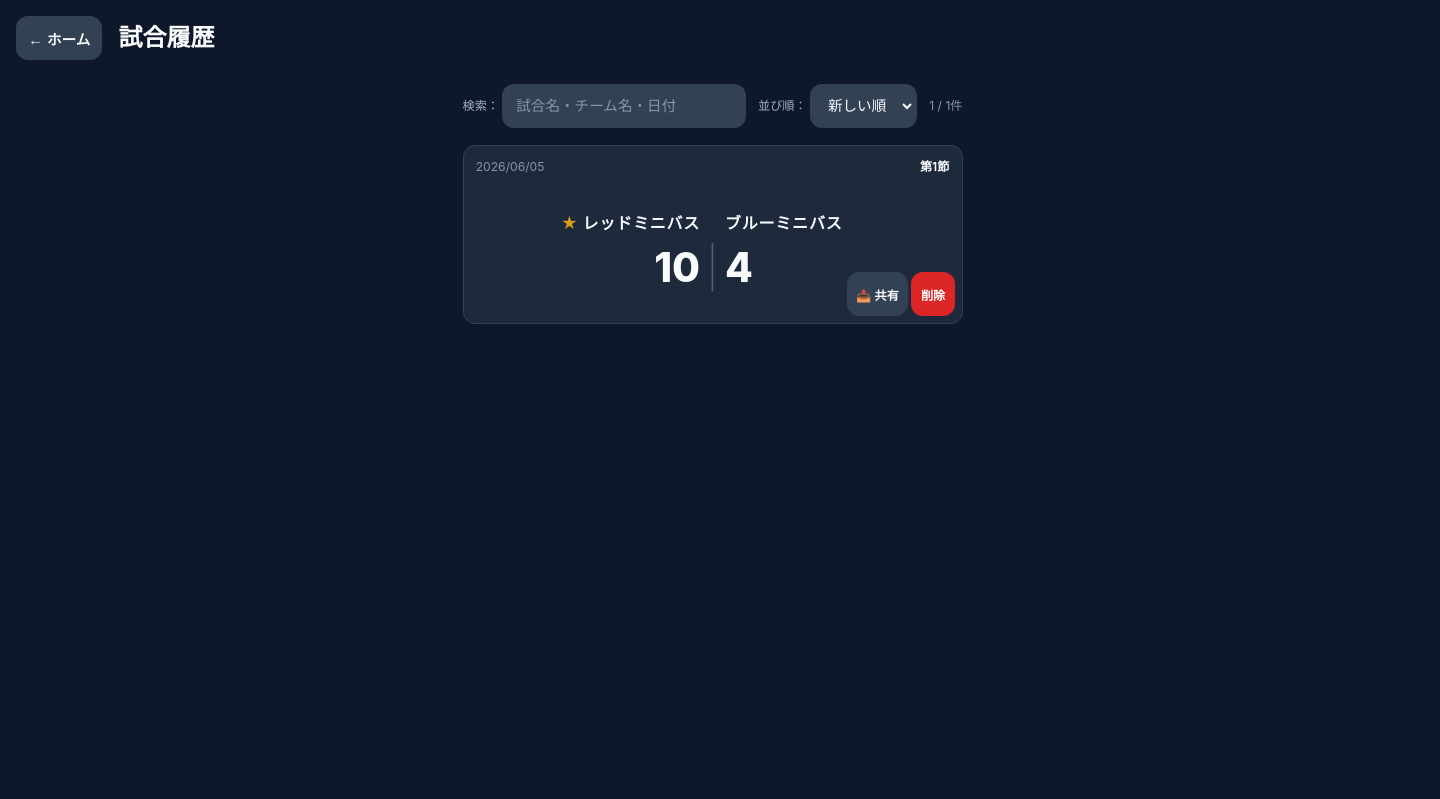
Scenario: 履歴詳細のタブ › スタッツに切り替えると選手別の表が出る
The image size is (1440, 799).
Click the button "2026/06/05 第1節 ★ レッドミニバス 10 | ブルーミニバス 4".
click(510, 166)  # box [476, 158, 949, 311]
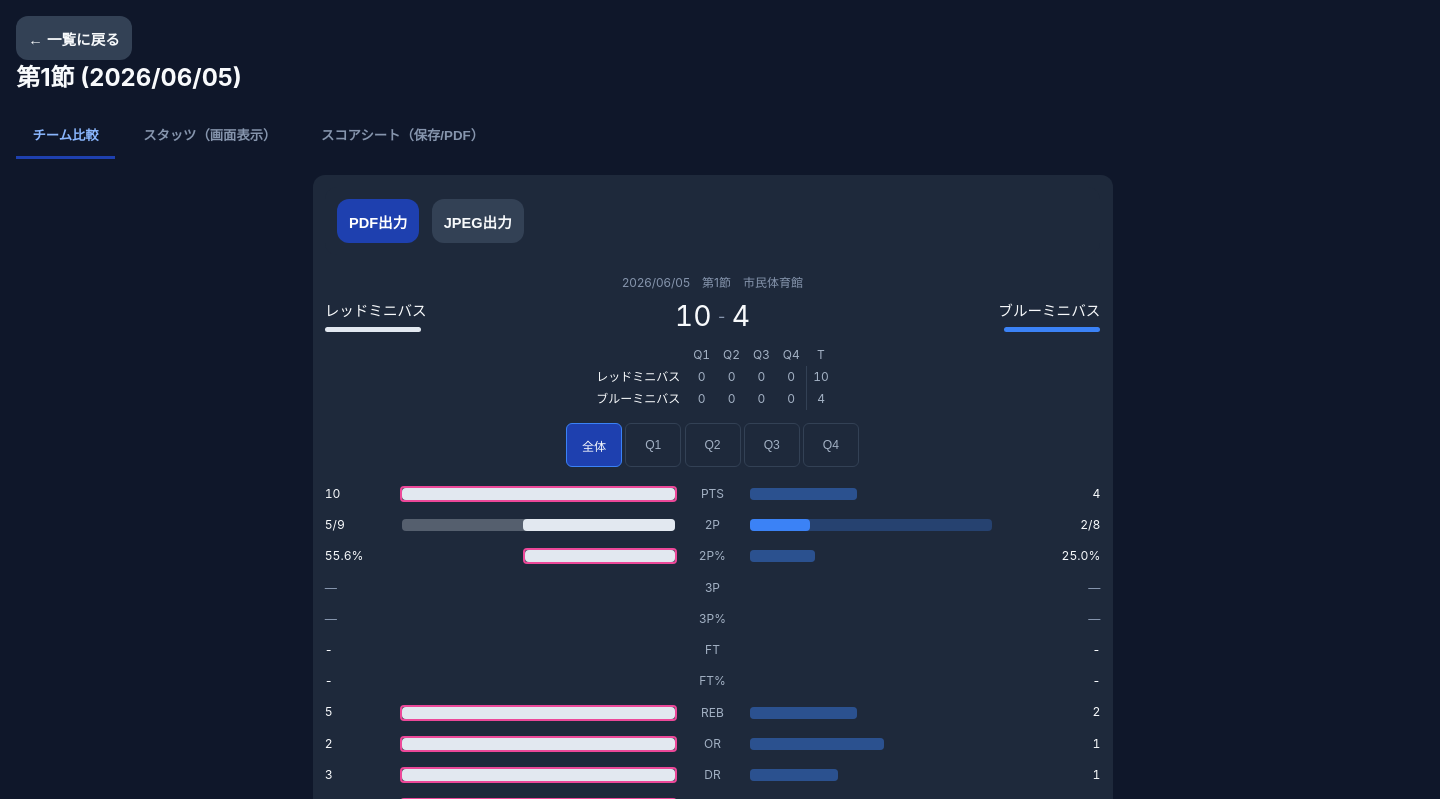
Click the button "スタッツ（画面表示）".
click(210, 136)  # box [127, 112, 293, 159]
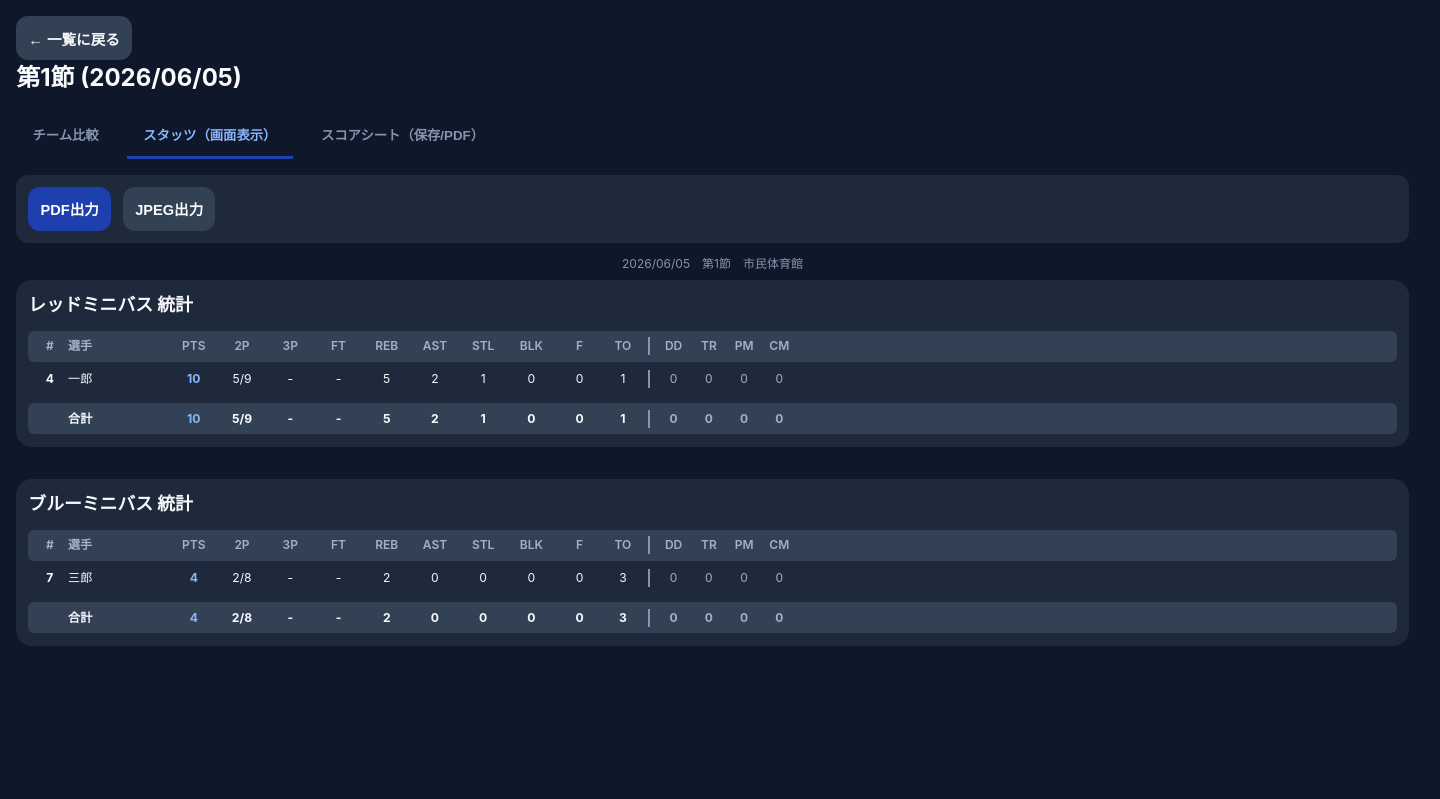
Result: the number of elements with class "stats-panel" is 2 at [16, 280, 1409, 447]; [16, 479, 1409, 646]
